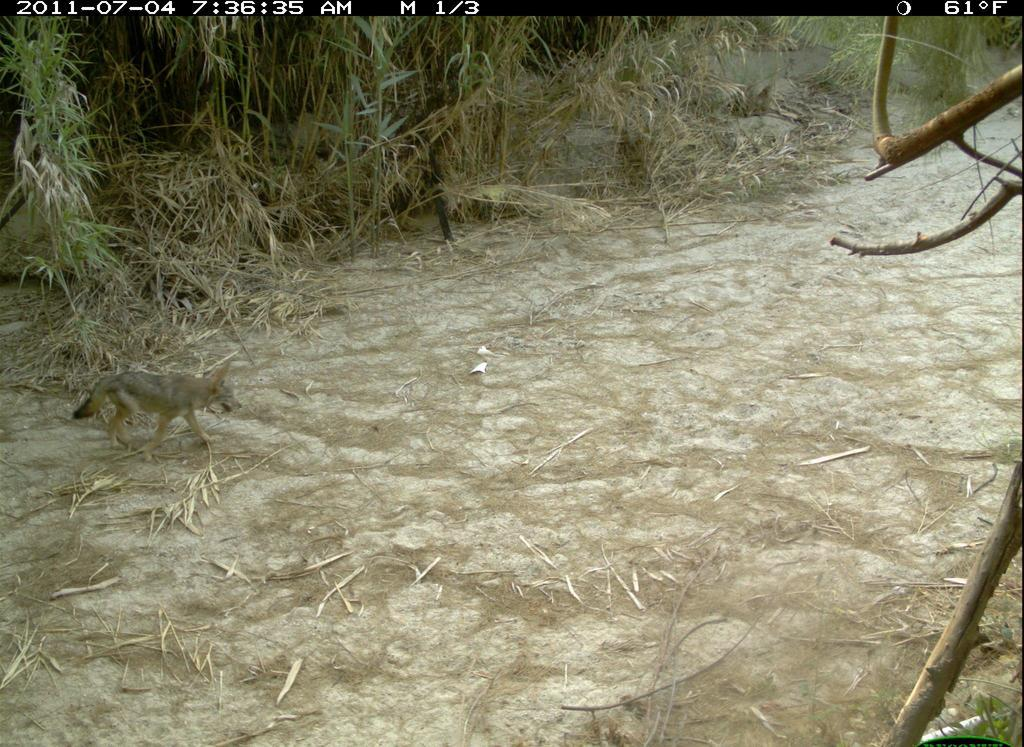coyote: (77, 359, 250, 463)
